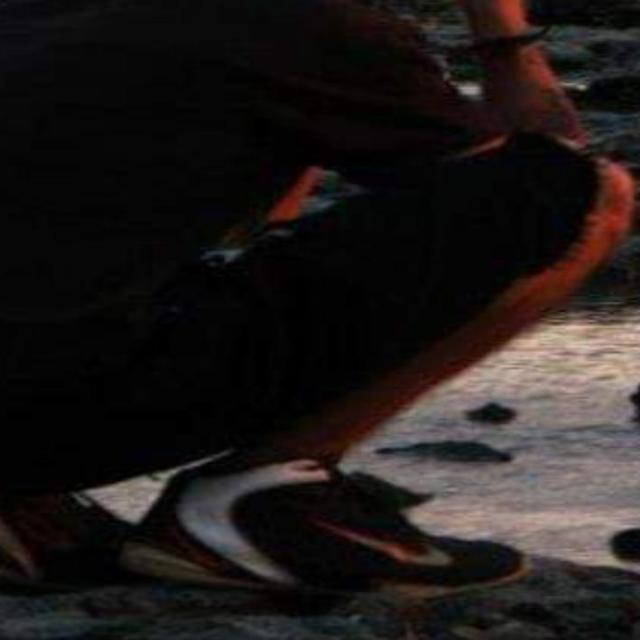shoes: (134, 454, 540, 604)
